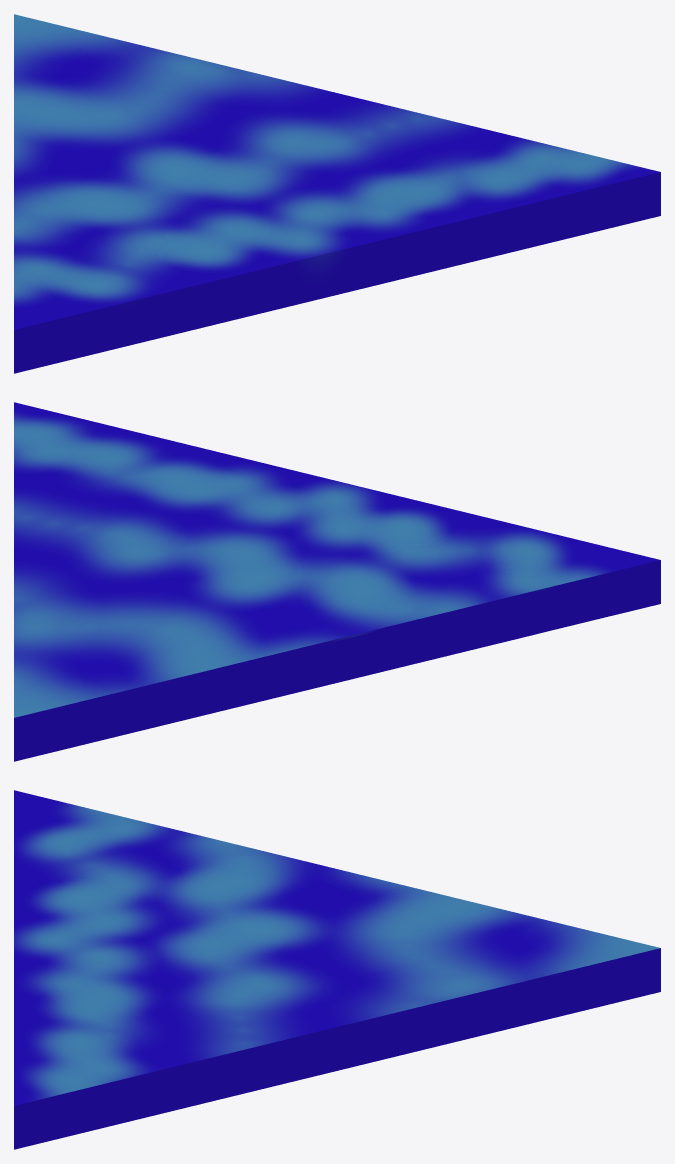
The model's file is ocean.glb.
The picture shows the model from 3 angles, top to bottom: view 1: azimuth 30°, elevation 25°; view 2: azimuth 150°, elevation 25°; view 3: azimuth 270°, elevation 25°; orthographic projection.
Visible parts, largest first — view 1: Circle; view 2: Circle; view 3: Circle.
Boxes of the visible parts, x1,y1,x2,y2 form: Circle: (14, 14, 660, 373); Circle: (14, 402, 660, 761); Circle: (14, 790, 660, 1149).
Bounding box in the file's own units: 1.73 × 0.1122 × 1.5.
Materials: 1 (1 with a texture image).
